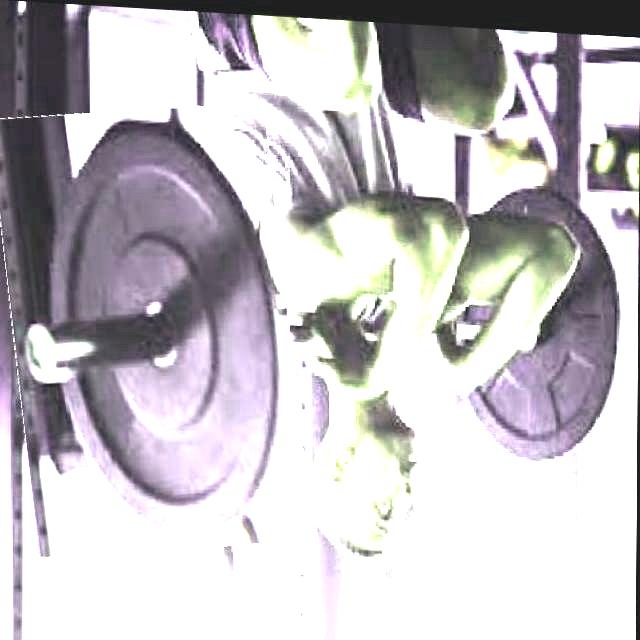barbell: (1, 96, 303, 562)
